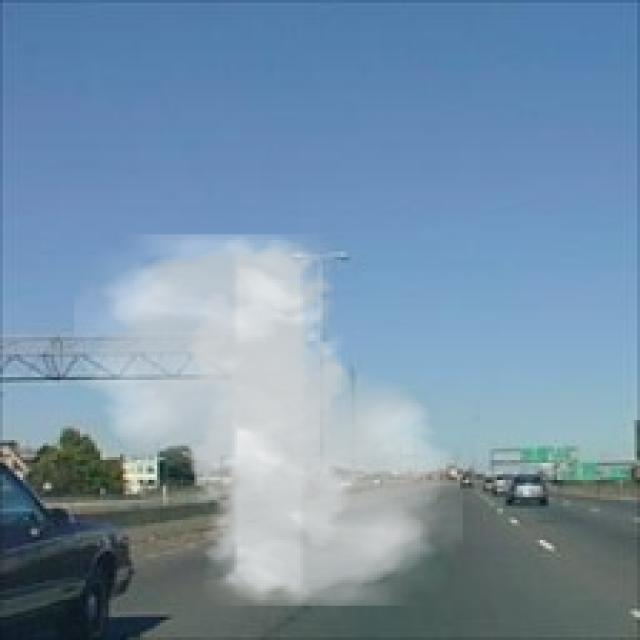smoke: (74, 234, 463, 606)
